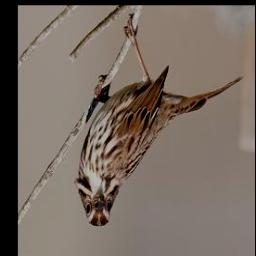Sparrow: (72, 12, 246, 229)
